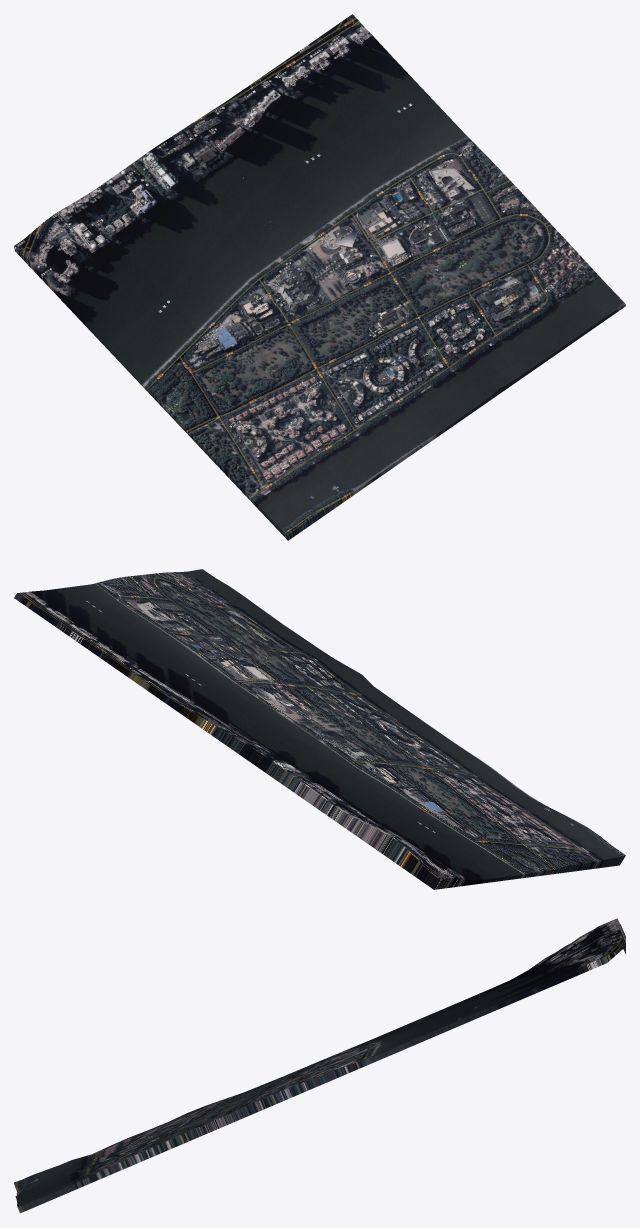
3 renders of one model, top to bottom at view 1: azimuth 30°, elevation 25°; view 2: azimuth 150°, elevation 25°; view 3: azimuth 270°, elevation 25°, orthographic. The views are drawn at different scales.
Parts seen in each view (by area): view 1: 1_6_9; view 2: 1_6_9; view 3: 1_6_9.
Boxes of the visible parts, bbox=[...] form: 1_6_9: bbox=[14, 14, 625, 540]; 1_6_9: bbox=[14, 569, 625, 889]; 1_6_9: bbox=[14, 918, 625, 1213].
Size of the model in its own units: 1232 by 894 by 1130.
1 material, 1 textured.
